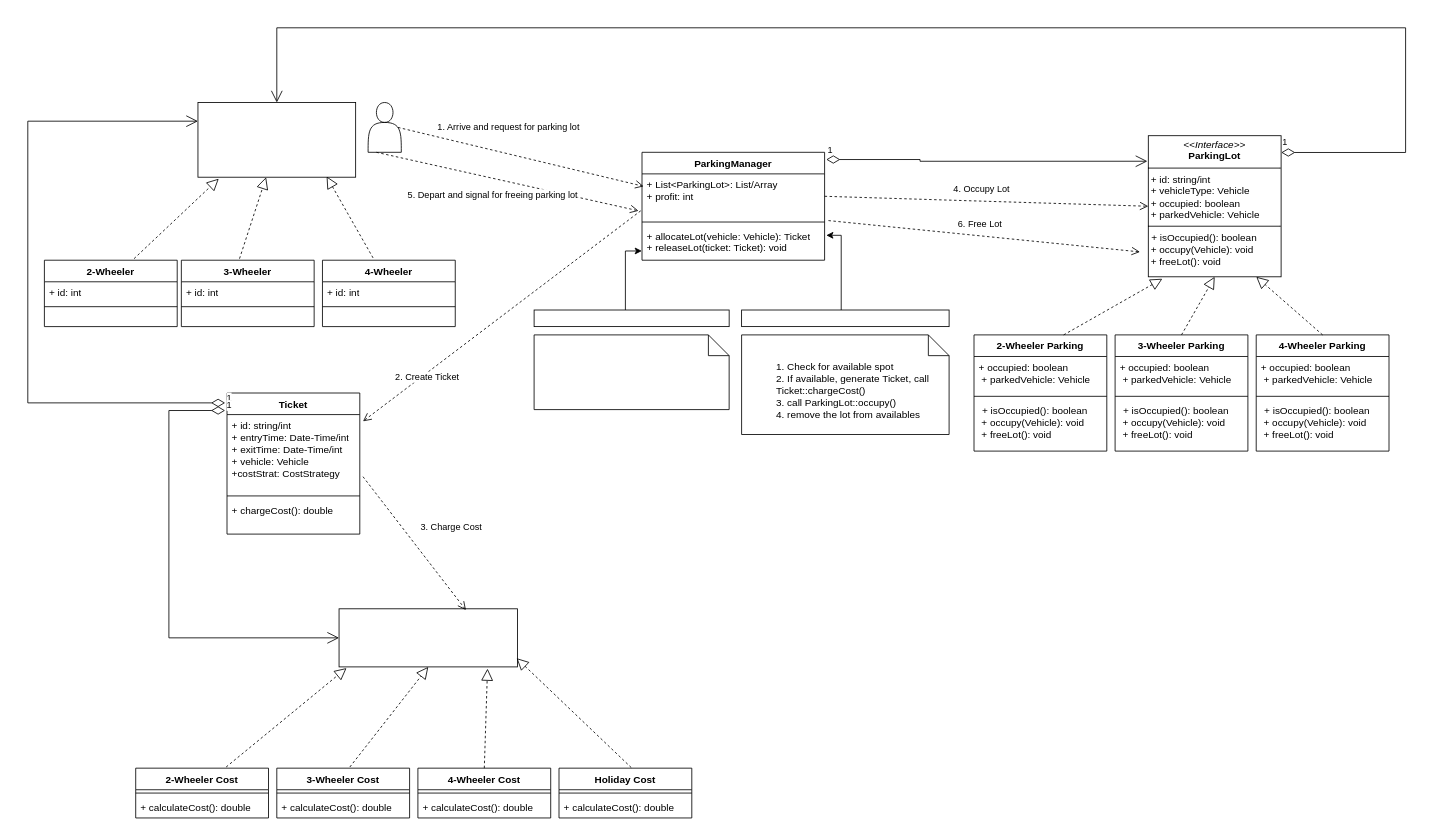
The diagram is 1434 pixels wide and 835 high, and some of its shapes have lost their labels. The centre of each missing label's shape, as x and y in pixels:
1. Call ParkingLot::Release() 2. Add the lot back to availables: [631,372]
<<Interface>> CostStrategy + calculateCost(ticket: Ticket): double: [428,637]
<<Interface>> Vehicle + id: string/int: [276,139]
ParkingManager::allocateLot(): [845,318]
ParkingManager::releaseLot(): [631,318]
